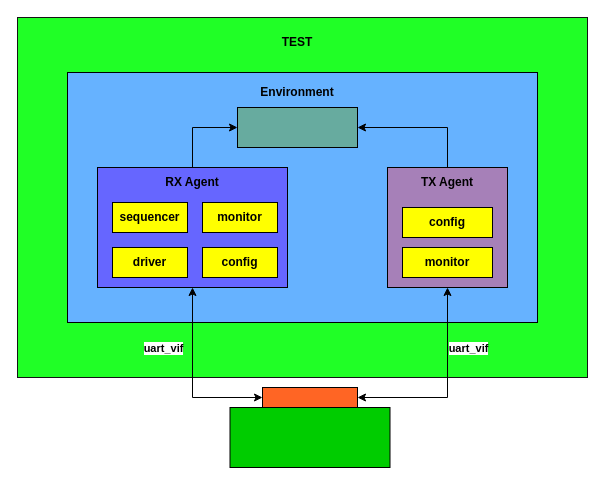
This 605x485 diagram has some shape labels left out. Each missing label, with the box of its shape:
DUT: (229, 406, 390, 468)
Scoreboard: (236, 106, 358, 148)
uart_if: (262, 386, 358, 408)
